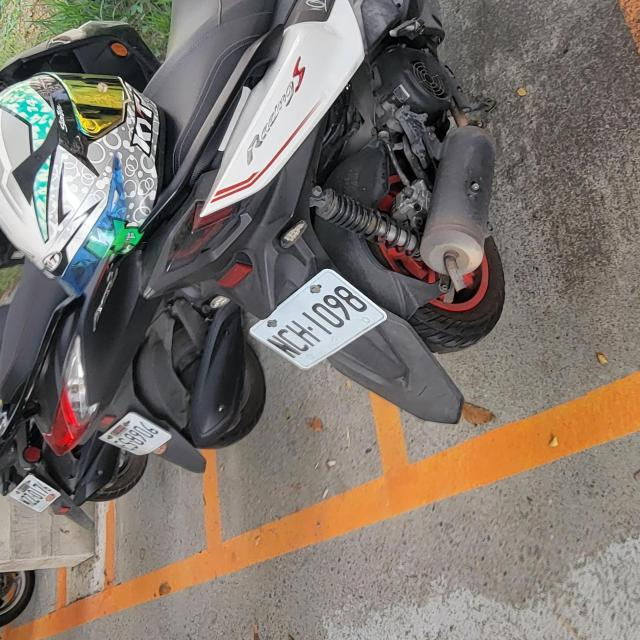W: (236, 259, 400, 378)
